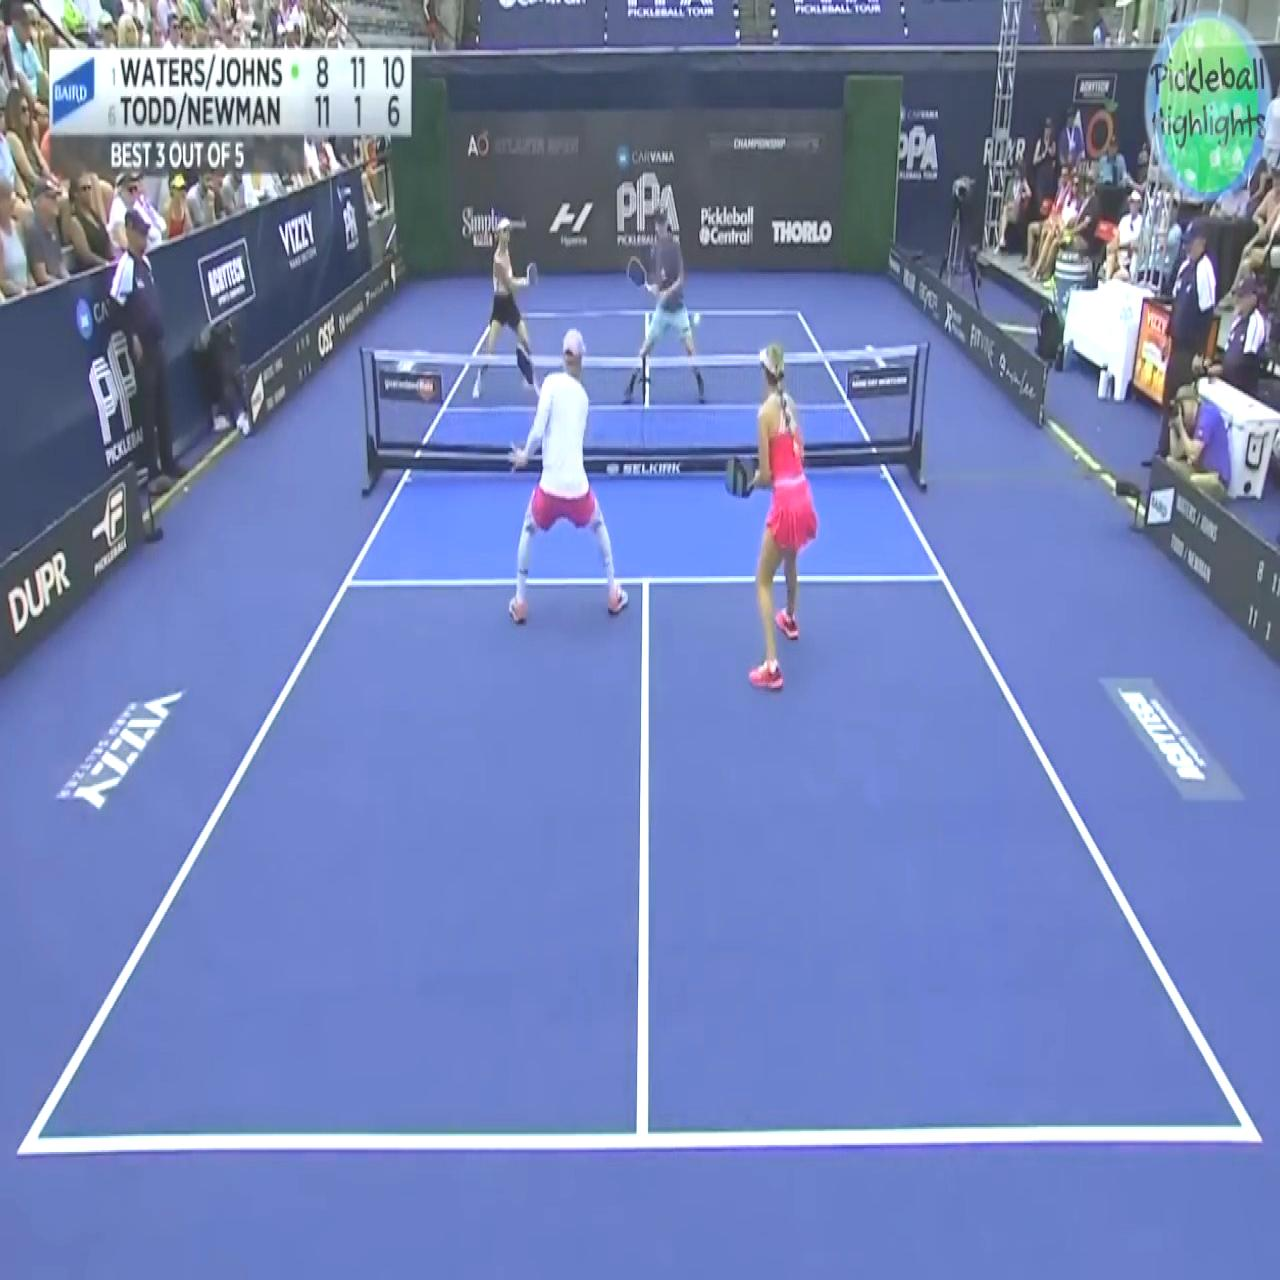Pickleball: (690, 306, 702, 331)
